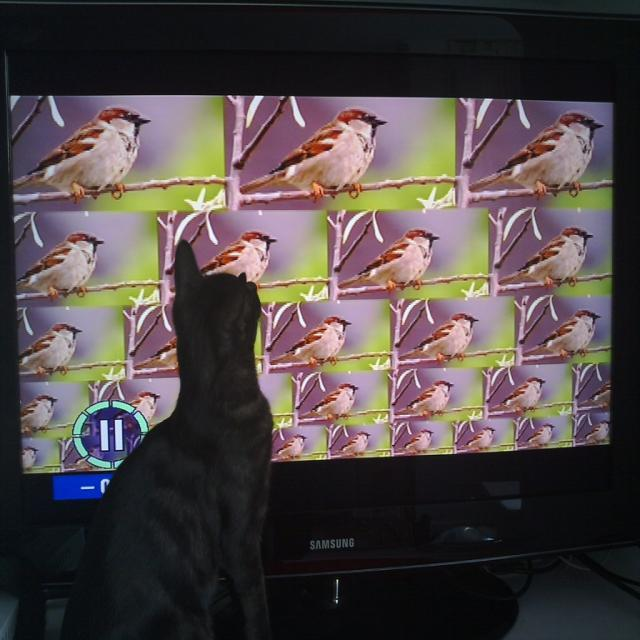others: (8, 77, 623, 632)
